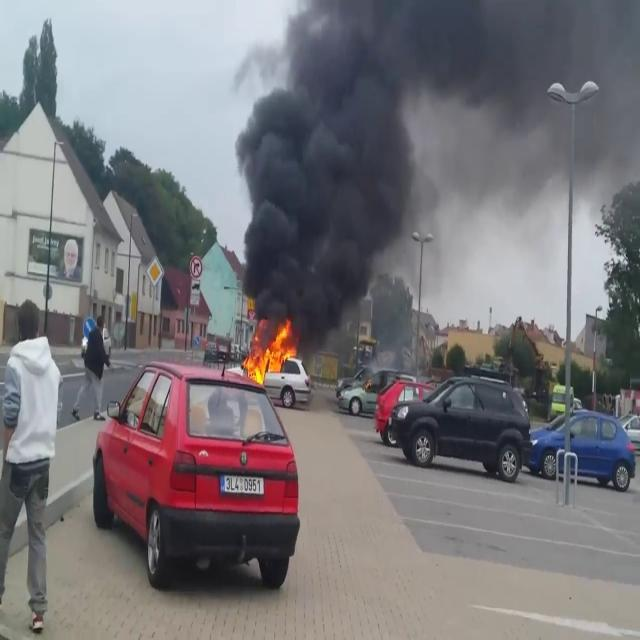Fire: (240, 320, 298, 384)
Smoke: (234, 1, 471, 332), (426, 1, 640, 298)
